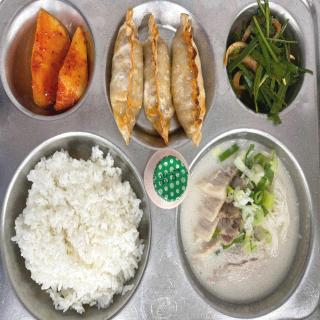Nasi: (3, 138, 141, 320)
